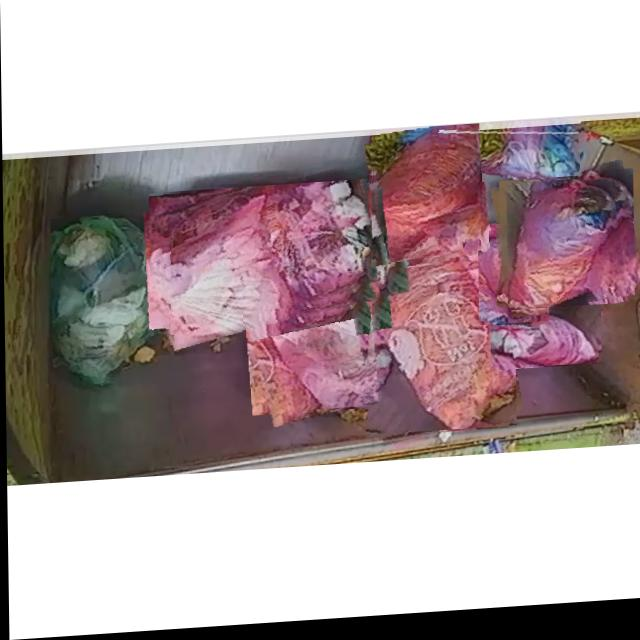general_trashbag: (50, 216, 170, 383)
other_trashbag: (241, 193, 413, 413), (150, 186, 373, 311), (368, 249, 515, 434), (373, 130, 479, 268), (508, 185, 618, 316), (439, 136, 580, 186), (477, 238, 548, 330), (490, 314, 599, 373)
